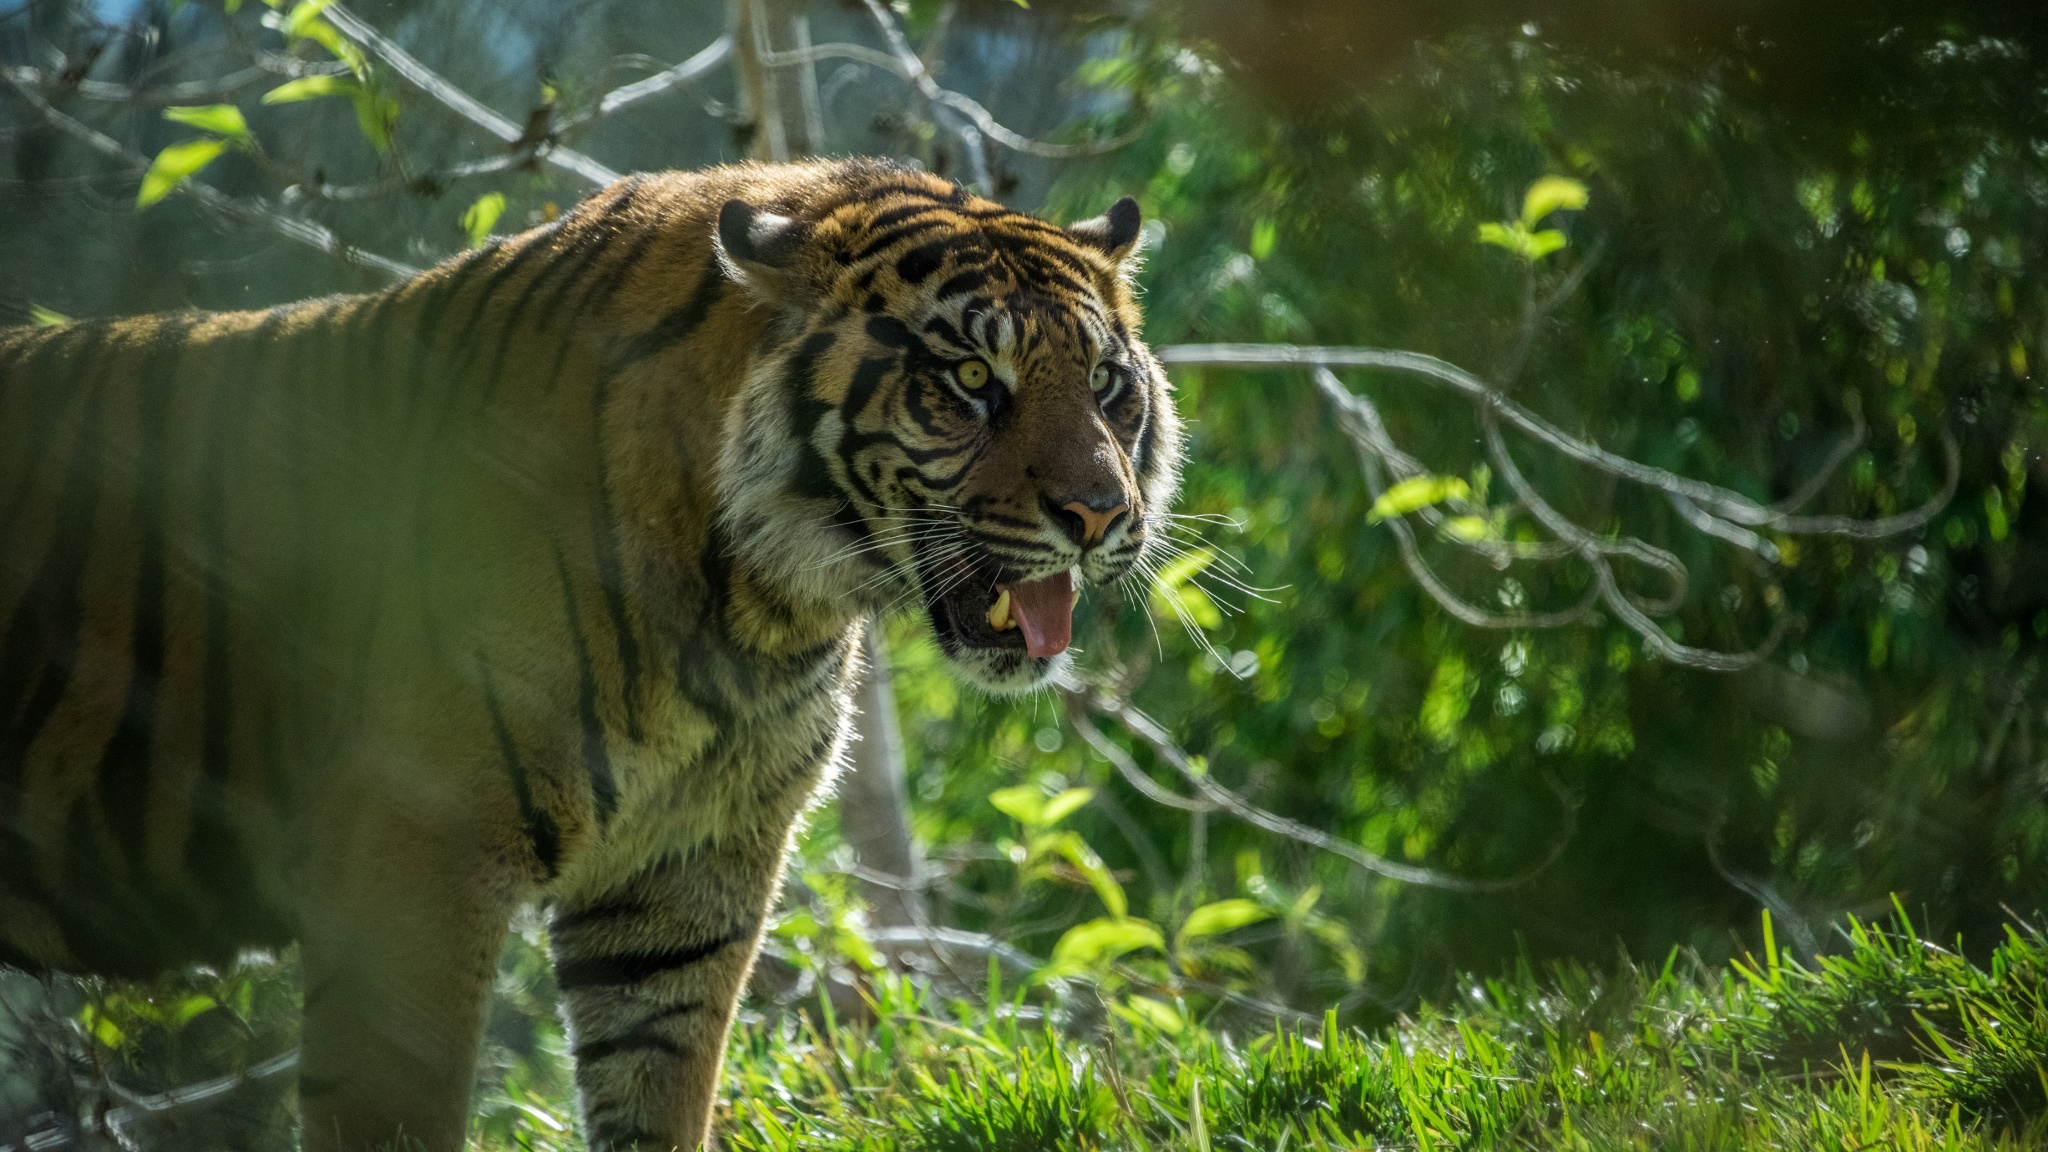tiger: (103, 129, 1190, 1117)
